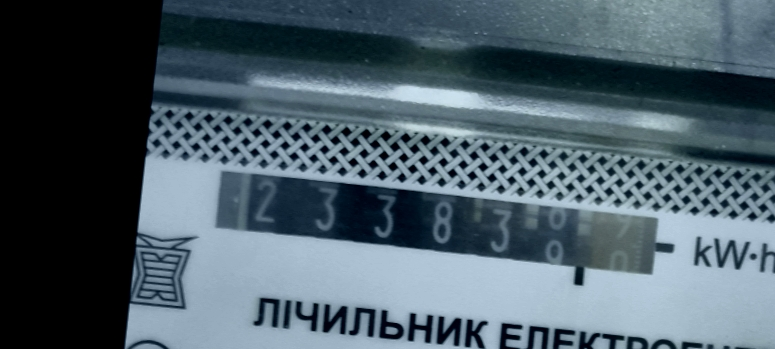0: (606, 247, 631, 275)
2: (251, 177, 280, 226)
3: (308, 182, 342, 234), (366, 190, 400, 242), (485, 206, 513, 254)
8: (425, 198, 457, 247), (543, 204, 569, 234)
9: (609, 210, 634, 242), (541, 236, 565, 267)
screen: (200, 158, 680, 299)
